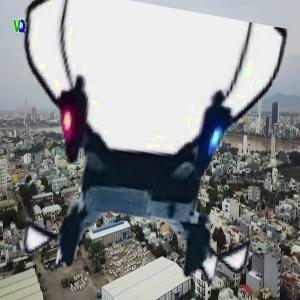drone: (1, 6, 287, 292)
